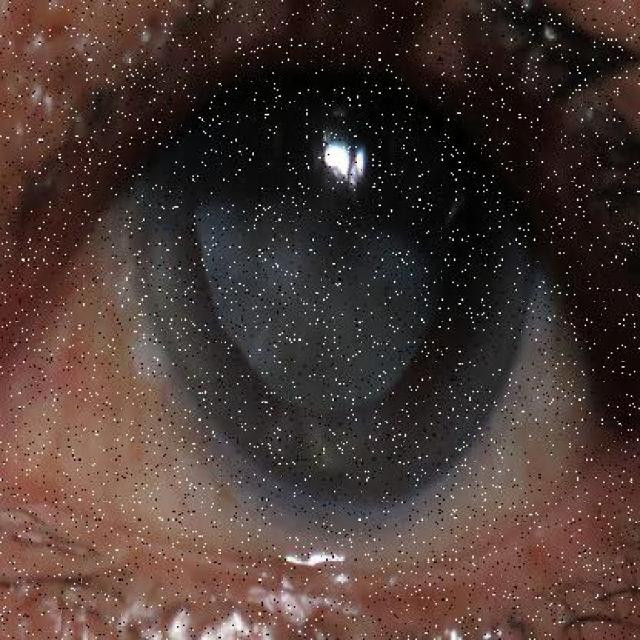Cataract: (119, 26, 544, 537)
